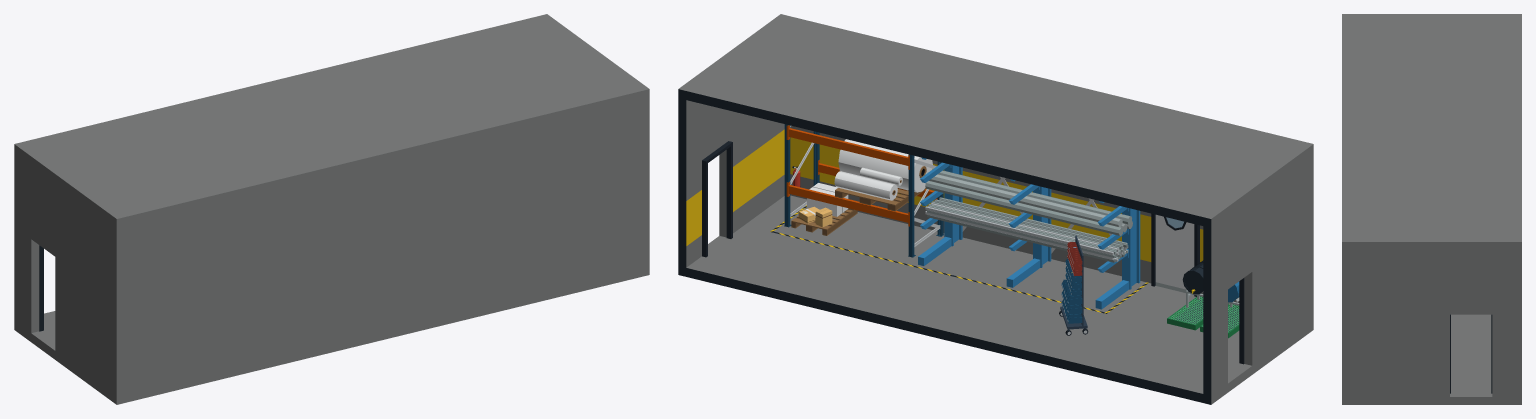
The model's file is Room_Raw_Material_Storage.fbx.
3 views of the same model, side by side, from view 1: azimuth 30°, elevation 25°; view 2: azimuth 150°, elevation 25°; view 3: azimuth 270°, elevation 25° (orthographic). The views are drawn at different scales.
Parts seen in each view (by area): view 1: Room_Raw_Material_Storage_001; view 2: Room_Raw_Material_Storage_001; view 3: Room_Raw_Material_Storage_001.
Part boxes in pixels (x1,y1,x2,y2): Room_Raw_Material_Storage_001: [14, 14, 649, 404]; Room_Raw_Material_Storage_001: [678, 14, 1313, 404]; Room_Raw_Material_Storage_001: [1342, 14, 1521, 404].
Size of the model in its own units: 1200 by 400 by 400.
